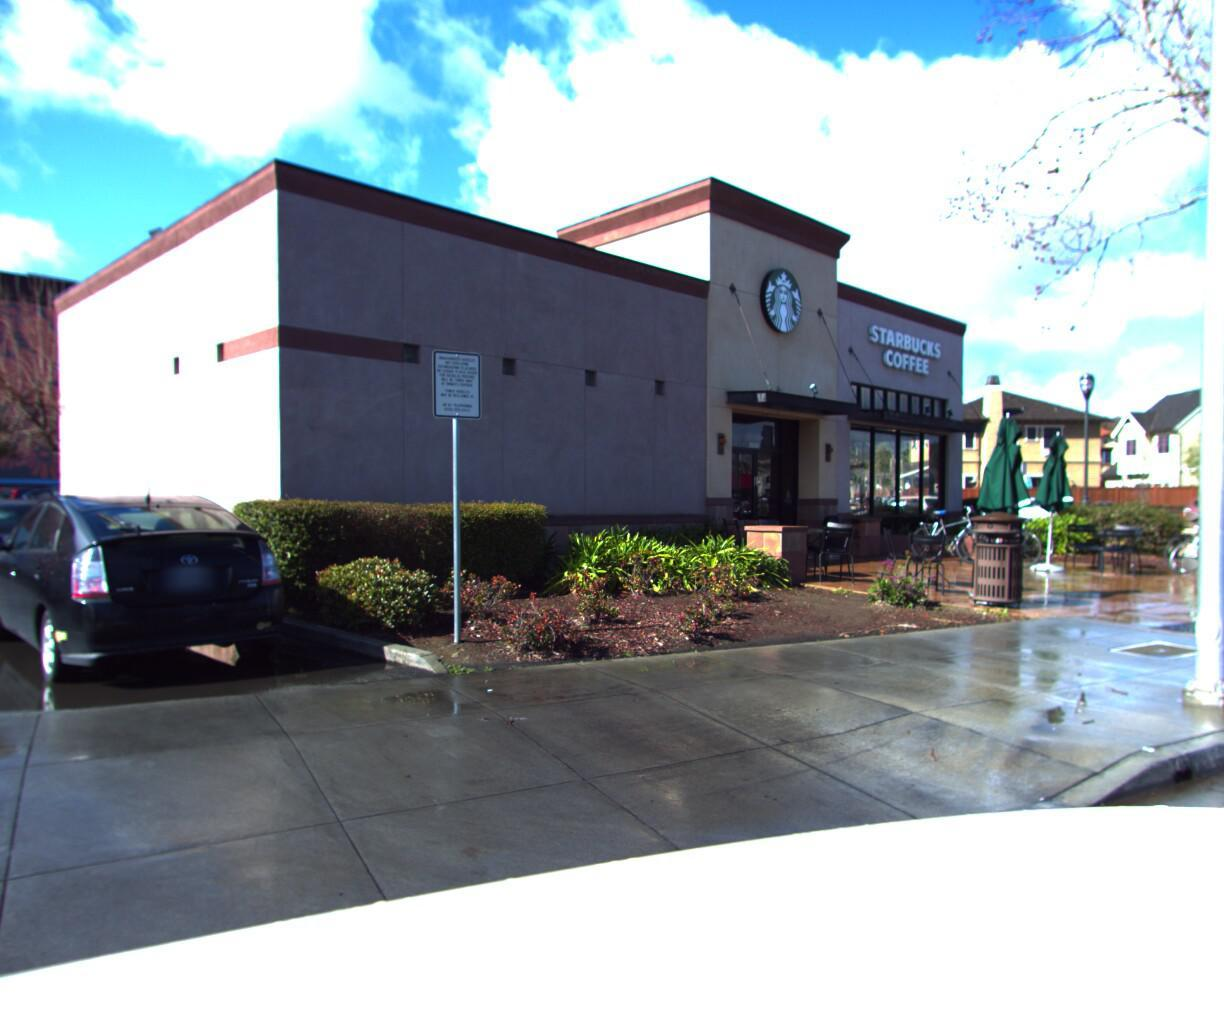bicycle: (960, 509, 1077, 576), (895, 497, 1008, 563), (961, 497, 1073, 560), (1147, 507, 1224, 581), (1165, 506, 1224, 581)
car: (0, 496, 311, 724), (0, 497, 135, 645), (970, 490, 1111, 532), (1174, 488, 1224, 537)
